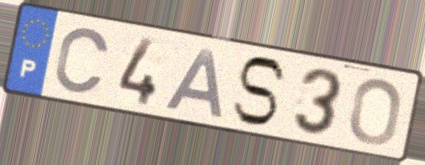3: (290, 66, 344, 138)
4: (116, 34, 162, 108)
A: (161, 45, 226, 121)
C: (51, 25, 112, 96)
O: (347, 76, 405, 148)
S: (229, 54, 289, 128)
